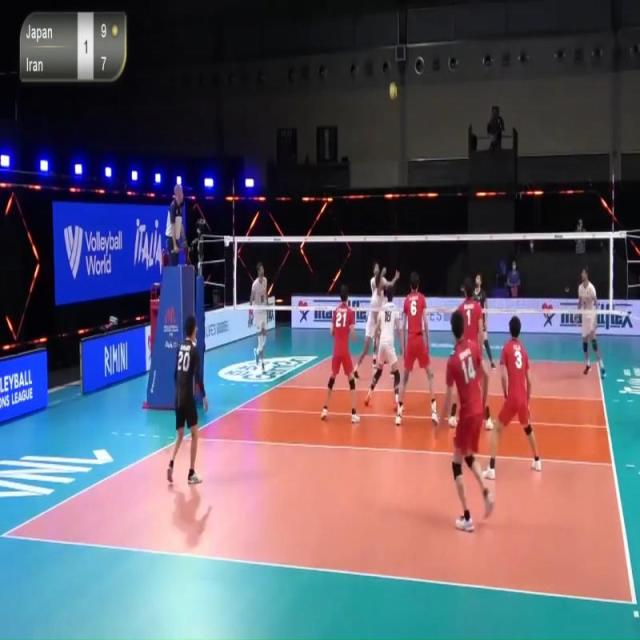volleyball: (388, 84, 398, 100)
